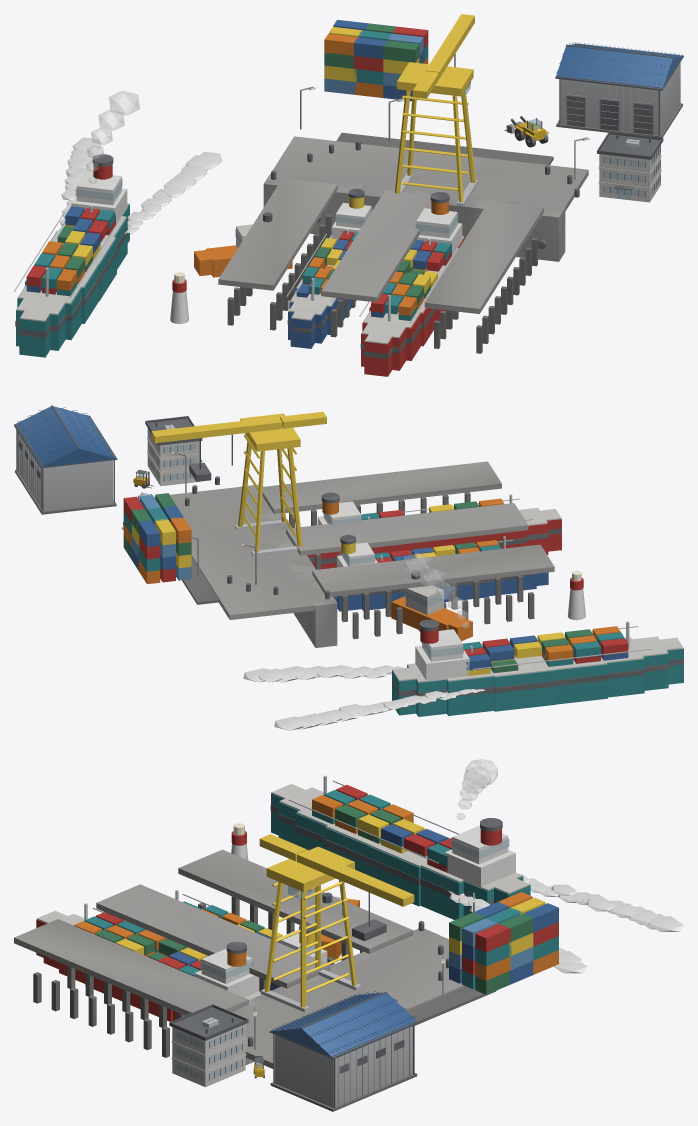
The model's file is Port_P3.fbx.
The picture shows the model from 3 angles, top to bottom: view 1: azimuth 30°, elevation 25°; view 2: azimuth 150°, elevation 25°; view 3: azimuth 270°, elevation 25°; orthographic projection. The views are drawn at different scales.
Visible parts, largest first — view 1: Port.Apron, Port.ShipOut, Port.Shed, Port.Pier0, Port.Ship0, Port.Pier2, Port.Pier1, Port.Containers, Port.Crane0, Port.Ship1, Port.QuayWall, Port.Control (+5 smaller); view 2: Port.ShipOut, Port.Apron, Port.Pier2, Port.Shed, Port.Crane0, Port.Pier0, Port.Pier1, Port.Containers, Port.Ship0, Port.Ship1, Port.Wake, Port.QuayWall (+4 smaller); view 3: Port.ShipOut, Port.Shed, Port.Pier0, Port.Apron, Port.Crane0, Port.Containers, Port.Pier1, Port.Pier2, Port.Ship0, Port.Control, Port.Wake, Port.Ship1 (+3 smaller).
Part boxes in pixels (bbox=[...]): Port.Apron: bbox=[270, 132, 588, 212]; Port.ShipOut: bbox=[14, 154, 129, 357]; Port.Shed: bbox=[555, 42, 683, 137]; Port.Pier0: bbox=[424, 201, 543, 353]; Port.Ship0: bbox=[359, 192, 464, 376]; Port.Pier2: bbox=[218, 178, 337, 330]; Port.Pier1: bbox=[321, 190, 431, 337]; Port.Containers: bbox=[324, 20, 428, 101]; Port.Crane0: bbox=[395, 14, 478, 206]; Port.Ship1: bbox=[286, 188, 372, 348]; Port.QuayWall: bbox=[263, 174, 565, 261]; Port.Control: bbox=[597, 131, 663, 202]; Port.ShipOut: bbox=[392, 619, 683, 716]; Port.Apron: bbox=[154, 485, 324, 619]; Port.Pier2: bbox=[312, 544, 554, 639]; Port.Shed: bbox=[14, 405, 117, 514]; Port.Crane0: bbox=[151, 411, 326, 556]; Port.Pier0: bbox=[262, 461, 501, 527]; Port.Pier1: bbox=[286, 503, 528, 569]; Port.Containers: bbox=[123, 493, 191, 584]; Port.Ship0: bbox=[307, 492, 561, 569]; Port.Ship1: bbox=[333, 535, 548, 611]; Port.Wake: bbox=[243, 665, 484, 730]; Port.QuayWall: bbox=[240, 484, 337, 647]; Port.ShipOut: bbox=[270, 775, 530, 919]; Port.Shed: bbox=[269, 991, 418, 1111]; Port.Pier0: bbox=[14, 919, 248, 1057]; Port.Apron: bbox=[235, 931, 496, 1068]; Port.Crane0: bbox=[259, 834, 414, 1012]; Port.Containers: bbox=[449, 892, 558, 994]; Port.Pier1: bbox=[96, 884, 330, 991]; Port.Pier2: bbox=[178, 849, 413, 965]; Port.Ship0: bbox=[36, 903, 261, 1021]; Port.Control: bbox=[169, 1004, 248, 1087]; Port.Wake: bbox=[448, 874, 683, 973]; Port.Ship1: bbox=[145, 890, 327, 990].
Size of the model in its own units: 16569 by 4118 by 12907.
